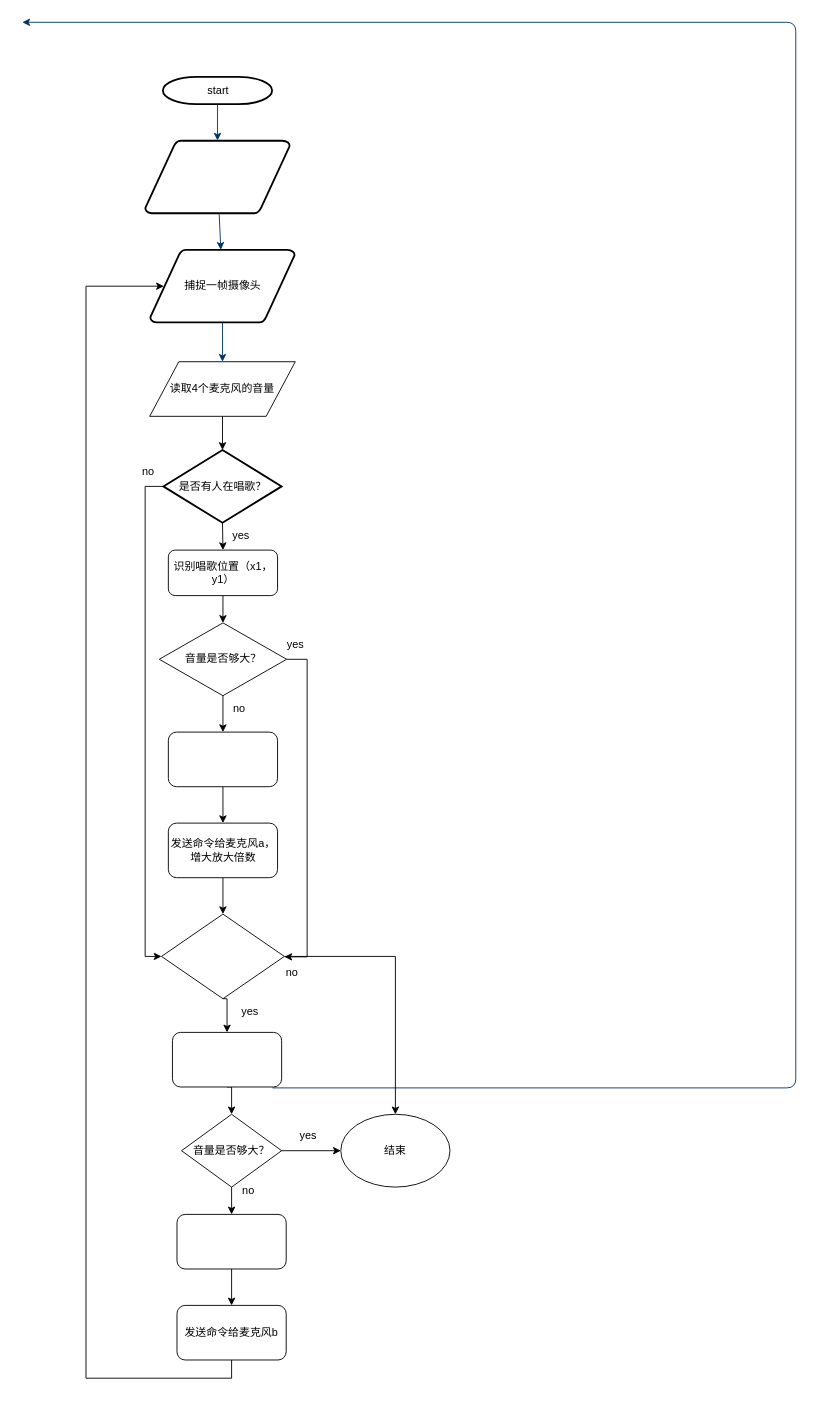
Image size: 819x1401. Some labels were removed from this diagram. The box of each missing label's shape, as (x1, y1, x2, y2) in pixels:
判断用麦克风a: (167, 731, 278, 787)
判断用麦克风b: (176, 1213, 286, 1269)
是否有乐器在弹奏？: (161, 913, 284, 999)
识别乐器位置(x2,y2): (172, 1031, 282, 1087)
调用AI模块: (144, 139, 290, 214)
